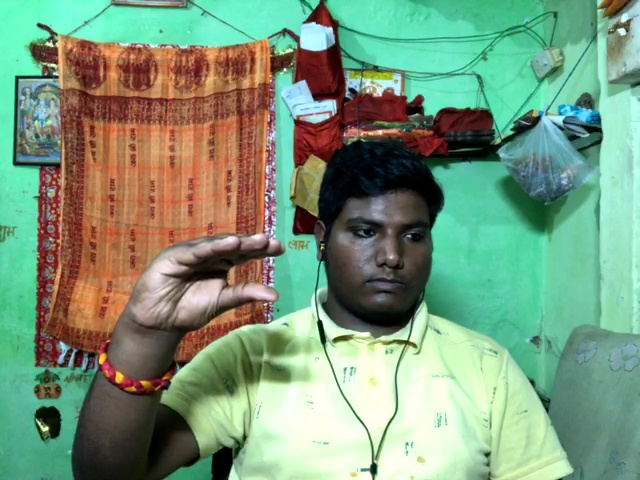No: (109, 209, 298, 356)
